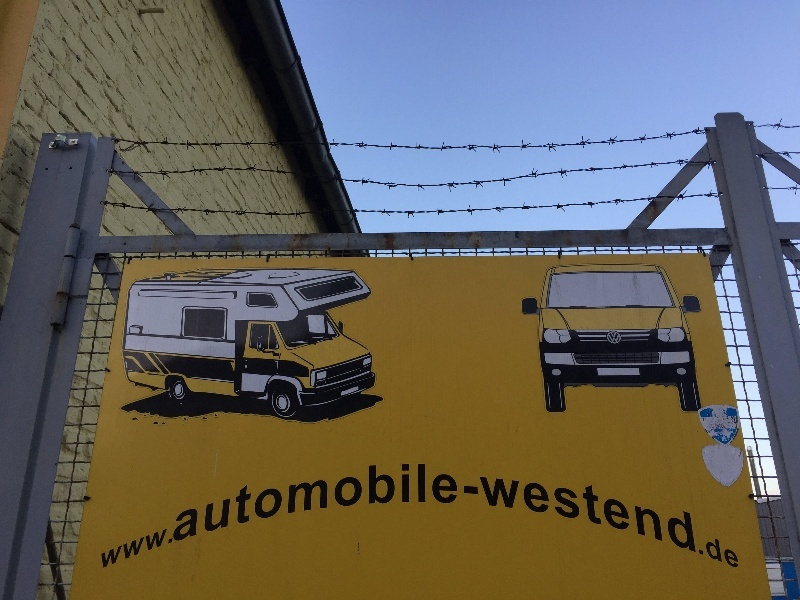text: (97, 460, 112, 571), (113, 460, 128, 571), (129, 460, 144, 571), (145, 460, 160, 571), (161, 460, 176, 571), (177, 460, 192, 571), (193, 460, 208, 571), (209, 460, 224, 571), (225, 460, 240, 571), (241, 460, 256, 571), (257, 460, 272, 571), (273, 460, 288, 571), (289, 460, 304, 571), (305, 460, 320, 571), (321, 460, 336, 571), (337, 460, 352, 571), (353, 460, 368, 571), (369, 460, 384, 571), (385, 460, 400, 571), (401, 460, 416, 571), (417, 460, 432, 571), (433, 460, 448, 571), (449, 460, 464, 571), (465, 460, 480, 571), (481, 460, 496, 571), (497, 460, 512, 571), (513, 460, 528, 571), (529, 460, 544, 571), (545, 460, 560, 571), (561, 460, 576, 571), (577, 460, 592, 571), (593, 460, 608, 571), (609, 460, 624, 571), (625, 460, 640, 571), (641, 460, 656, 571), (657, 460, 672, 571), (673, 460, 688, 571), (689, 460, 704, 571), (705, 460, 720, 571), (721, 460, 736, 571), (88, 460, 96, 571), (737, 460, 740, 571)
